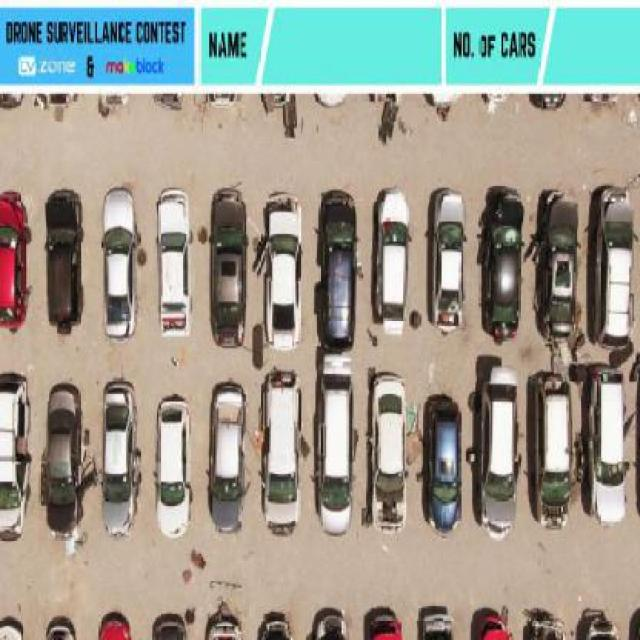car: (314, 347, 358, 534), (476, 363, 521, 544), (257, 366, 304, 531), (588, 363, 633, 534), (365, 368, 409, 535), (203, 379, 250, 534), (41, 379, 85, 543), (534, 364, 576, 534), (596, 185, 638, 351), (318, 189, 361, 349), (206, 186, 248, 348), (101, 377, 143, 537), (100, 182, 142, 342), (536, 187, 579, 343), (155, 185, 197, 341), (43, 188, 87, 335), (481, 189, 522, 344), (368, 190, 409, 340), (154, 392, 198, 526), (266, 198, 302, 352), (422, 394, 461, 532), (429, 188, 465, 336), (0, 371, 30, 542), (0, 188, 33, 326), (466, 604, 517, 640), (358, 604, 401, 640), (309, 606, 351, 640), (573, 608, 616, 640), (200, 609, 243, 640), (416, 606, 453, 640), (95, 609, 134, 640), (524, 612, 566, 640), (257, 611, 294, 640), (149, 612, 186, 640), (42, 615, 80, 640), (0, 615, 26, 640), (628, 606, 640, 640)
